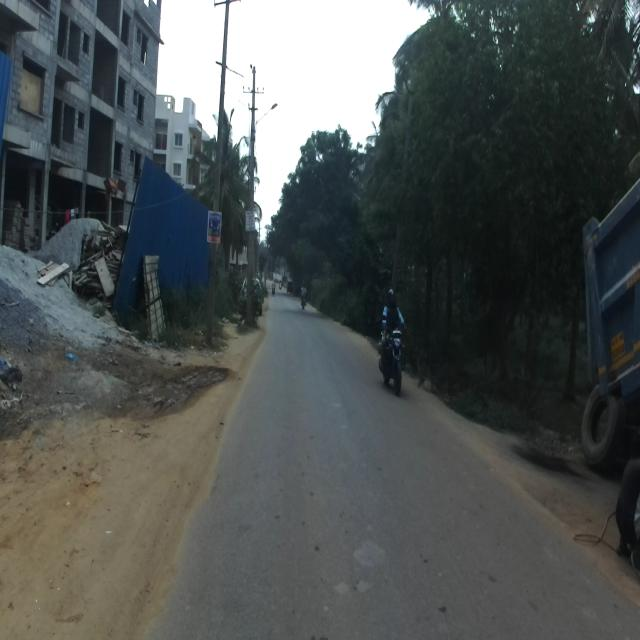electric pole ahead at: (200, 0, 238, 349)
